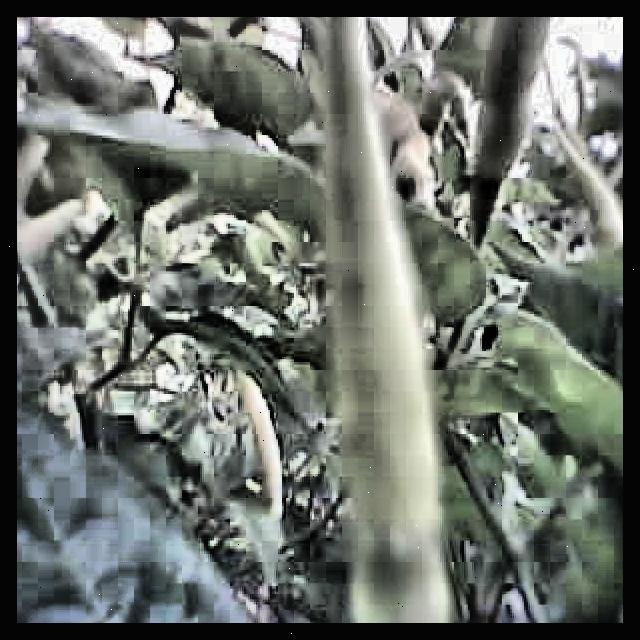Cabai: (303, 17, 473, 623), (463, 17, 564, 174), (220, 379, 290, 506), (560, 131, 623, 243)
